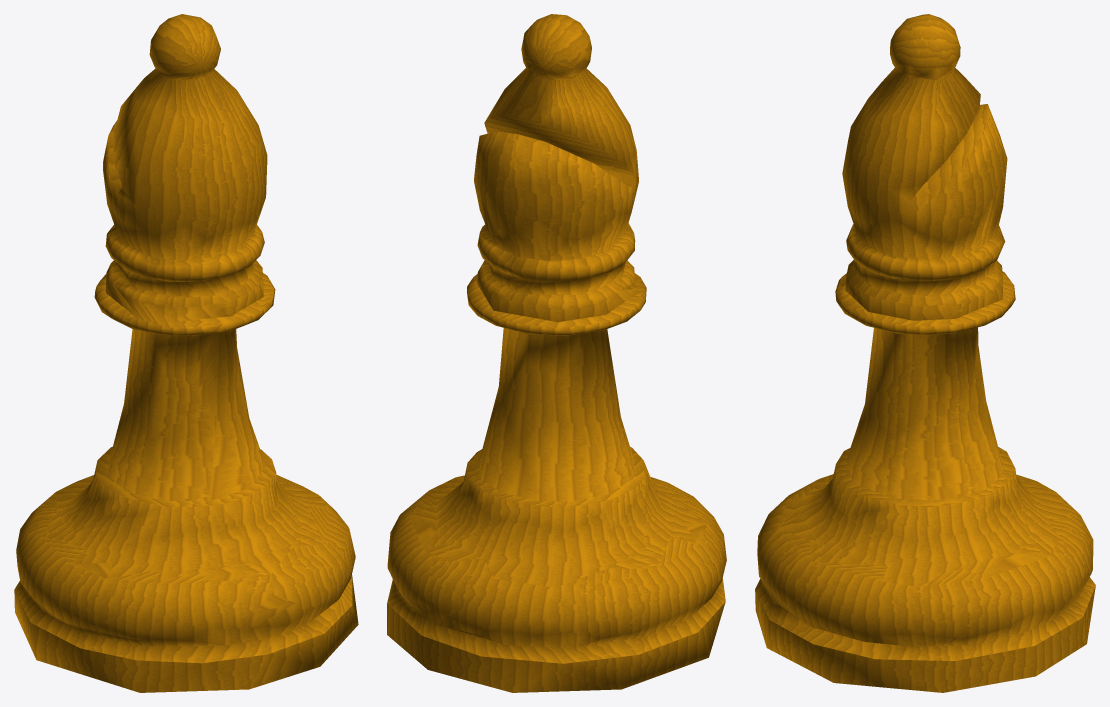
The model's file is Bishop_low_uv.obj.
The picture shows the model from 3 angles, left to right: view 1: azimuth 30°, elevation 25°; view 2: azimuth 150°, elevation 25°; view 3: azimuth 270°, elevation 25°; orthographic projection.
Visible parts, largest first — view 1: Bishop; view 2: Bishop; view 3: Bishop.
Part boxes in pixels (x1,y1,x2,y2): Bishop: [14, 14, 358, 692]; Bishop: [387, 14, 726, 692]; Bishop: [755, 14, 1095, 692].
Bounding box in the file's own units: 1.2 × 2.32 × 1.19.
